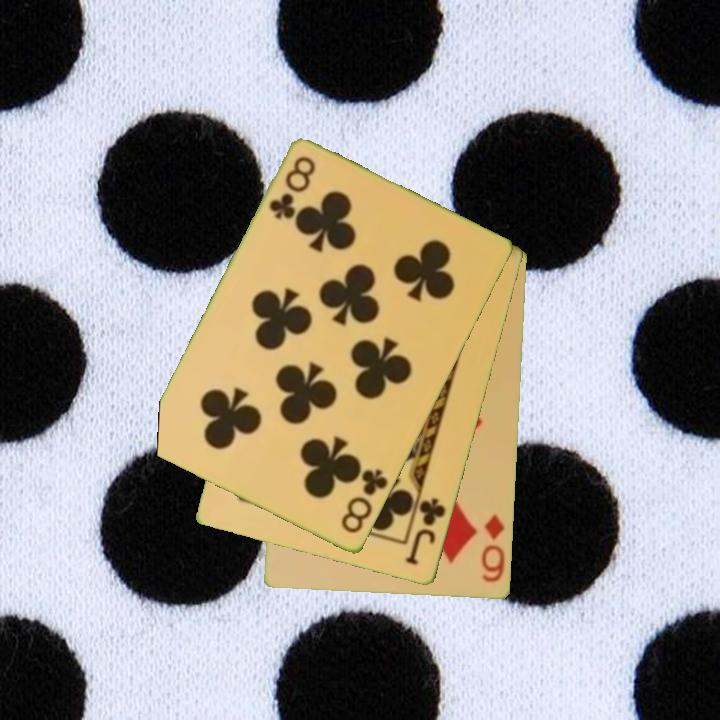6d: (478, 511, 508, 586)
8c: (337, 466, 391, 537), (265, 153, 319, 223)
Jc: (402, 494, 449, 569)
